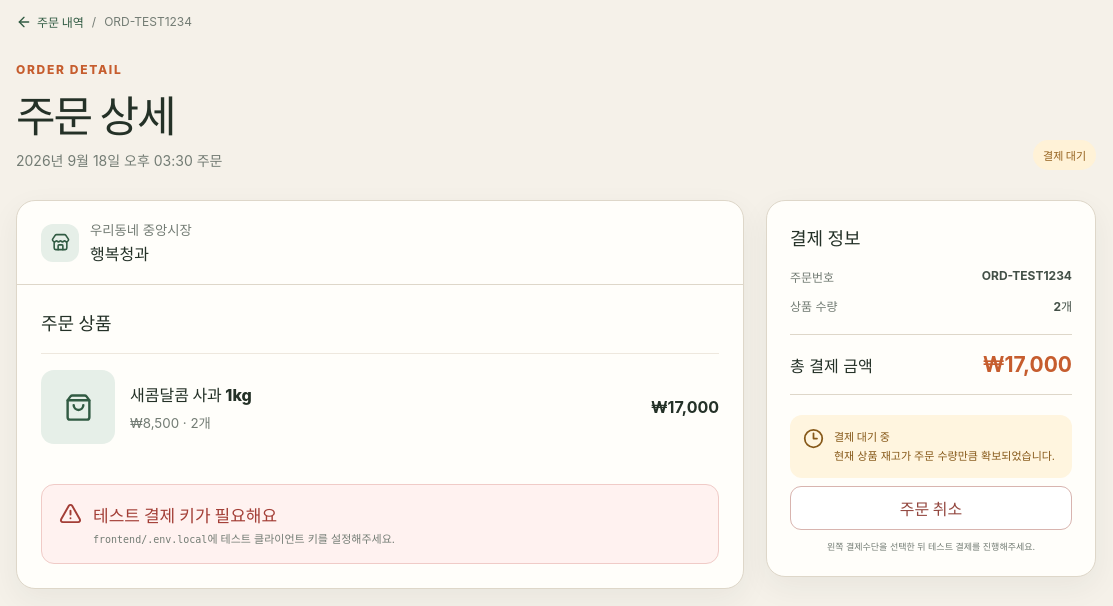
Test case: OrderDetailPage › 결제 대기 주문을 취소하고 상태를 갱신한다
Click the button "주문 취소": (931, 508) [790,486,1072,530]
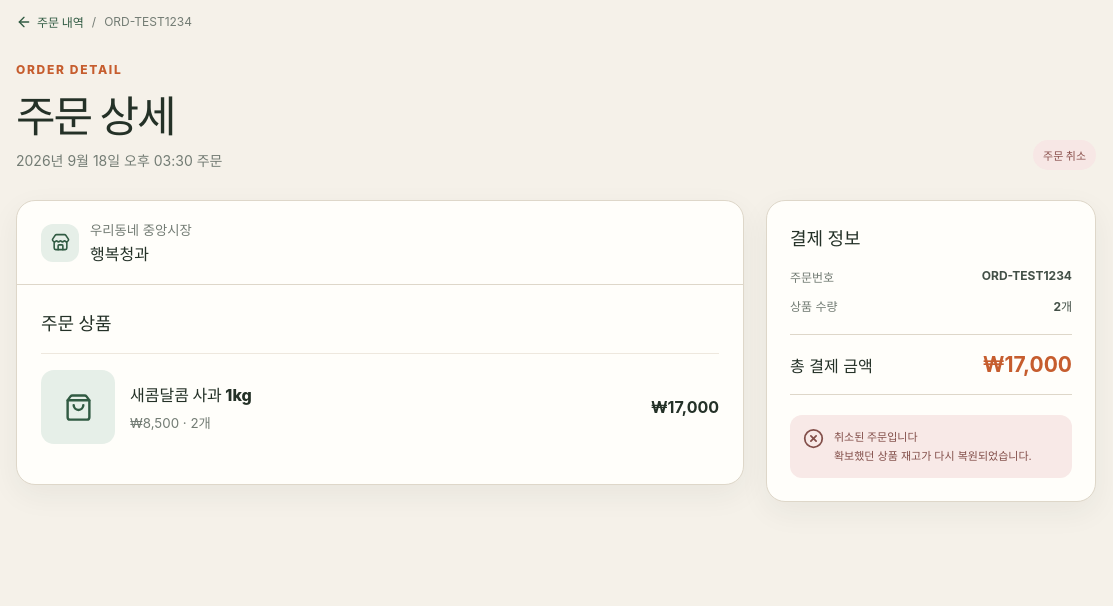
Expected: the text "취소된 주문입니다" is shown, [834,430,918,444]
